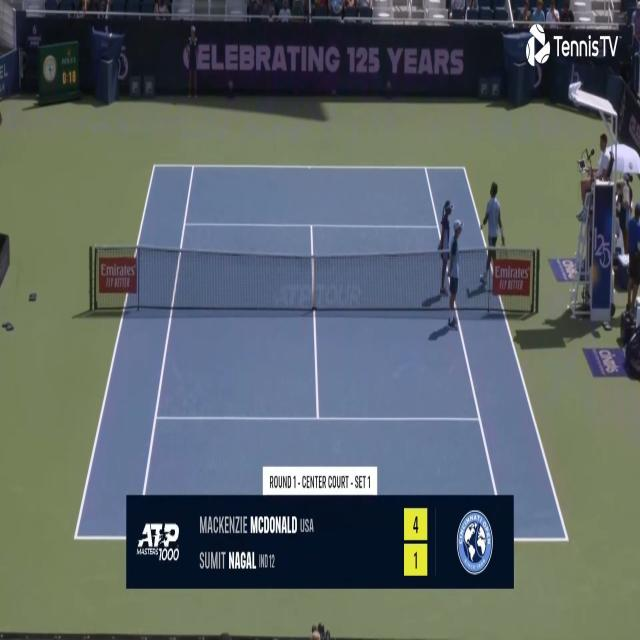tennis-player: (480, 177, 507, 286)
